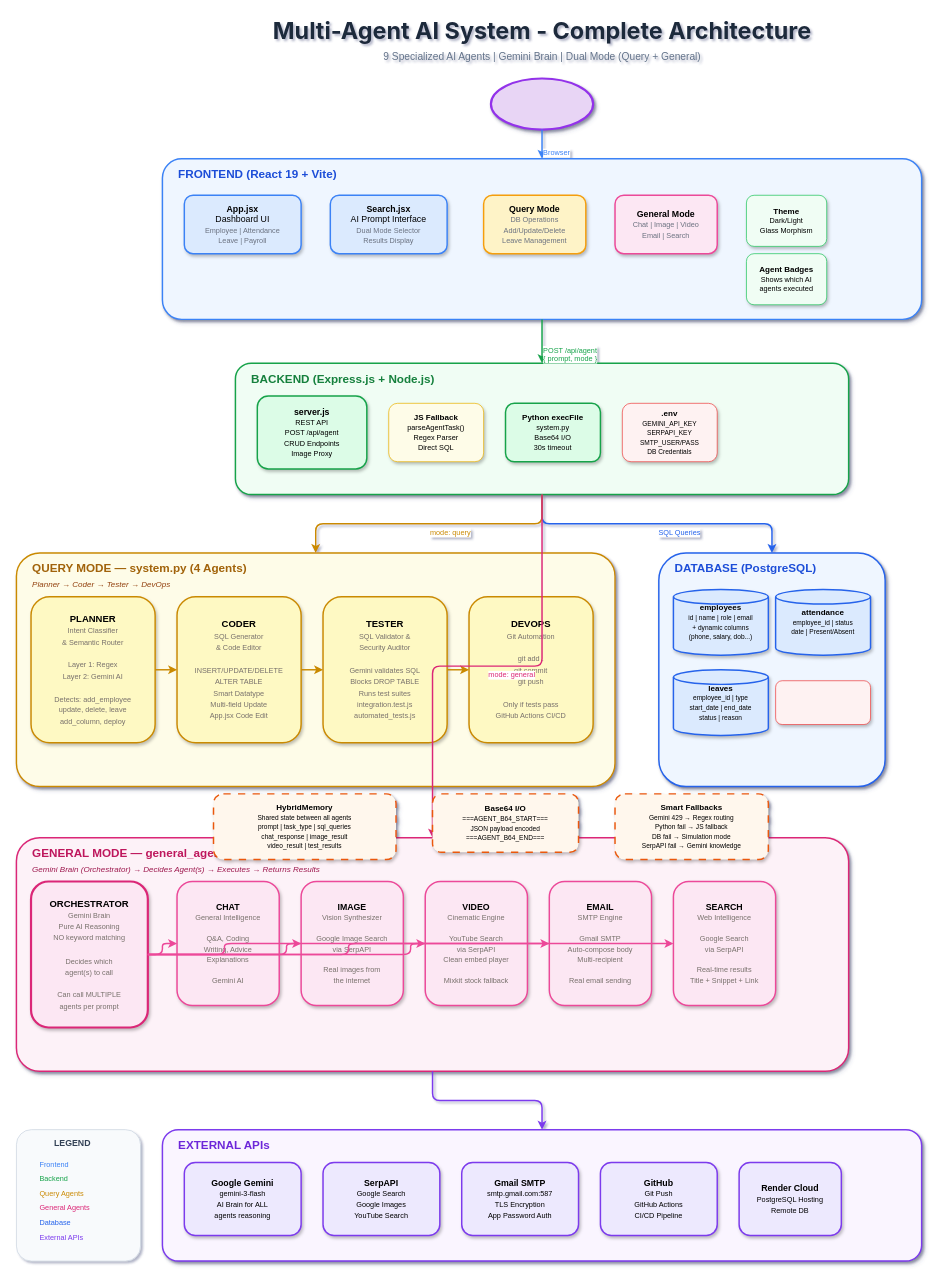
The diagram is 943 pixels wide and 1283 high, and some of its shapes have lost their labels. The shapes that lost their labels are listed below. From the top down, each one's centre as x and y in pixels, then its label:
At [542,104]: "User".
At [823,703]: "Simulation Mode In-memory fallback if DB fails".
